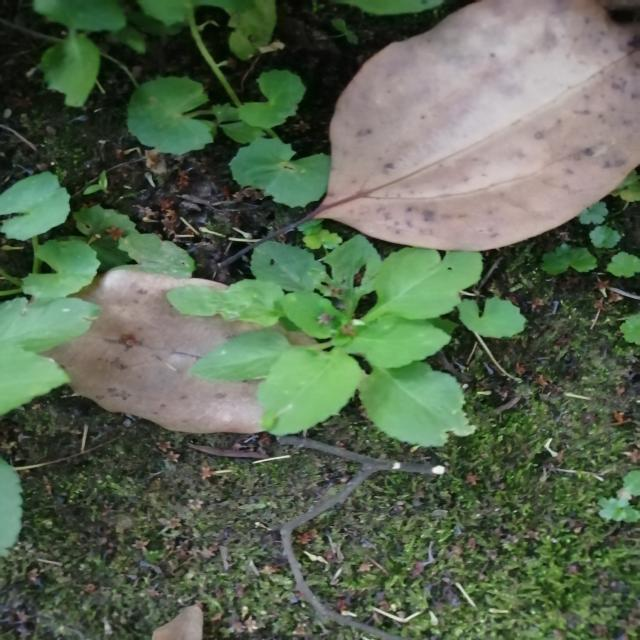Viola: (199, 236, 495, 452)
